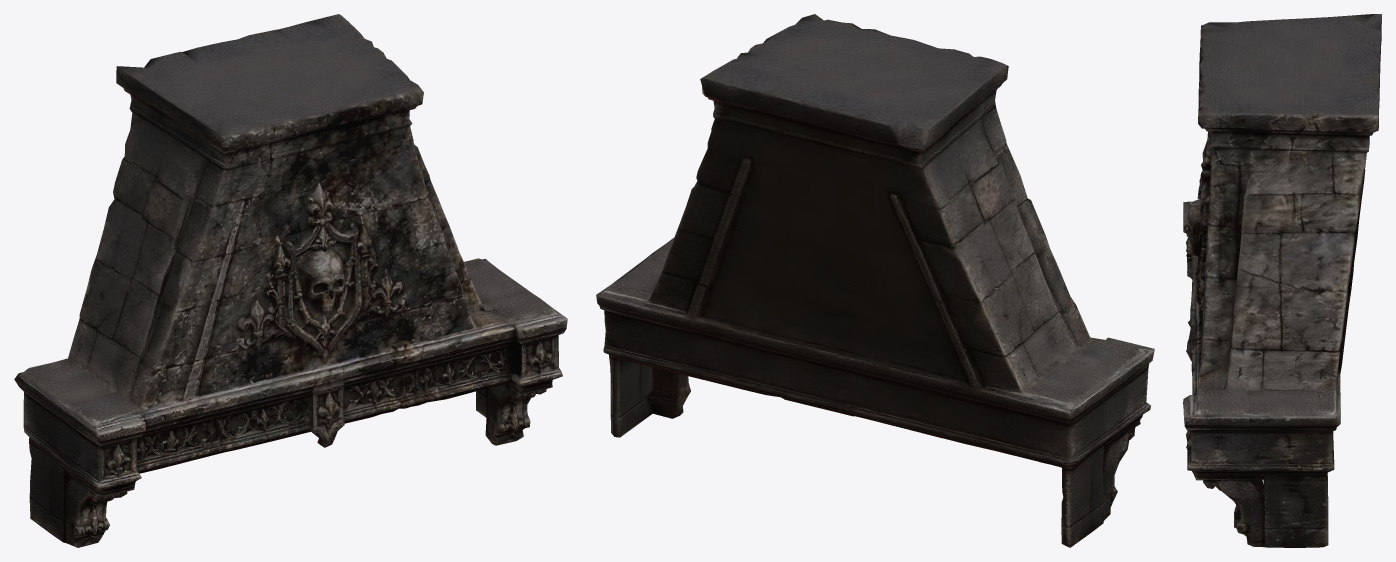
File: mantel.glb
The picture shows the model from 3 angles, left to right: view 1: azimuth 30°, elevation 25°; view 2: azimuth 150°, elevation 25°; view 3: azimuth 270°, elevation 25°; orthographic projection. The views are drawn at different scales.
Parts seen in each view (by area): view 1: mantel; view 2: mantel; view 3: mantel.
Part boxes in pixels (bbox=[...]): mantel: bbox=[14, 14, 567, 547]; mantel: bbox=[596, 14, 1154, 547]; mantel: bbox=[1183, 14, 1381, 547].
Size of the model in its own units: 4.4 by 3.6 by 1.71.
Materials: 1 (1 with a texture image).
